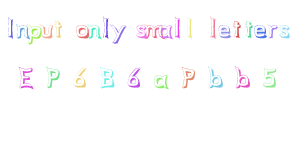5: (262, 66, 277, 88)
6: (72, 66, 88, 89), (126, 65, 142, 88)
B: (99, 66, 116, 90)
E: (17, 64, 36, 90)
I: (3, 14, 19, 40)
P: (45, 65, 61, 89), (180, 66, 196, 90)
a: (157, 22, 173, 41), (153, 72, 169, 88)
b: (205, 64, 226, 89), (233, 64, 252, 90)
e: (217, 23, 231, 39), (254, 23, 267, 40)
l: (184, 14, 195, 39), (207, 14, 217, 41), (172, 14, 182, 38), (101, 14, 110, 39)
m: (143, 23, 161, 40)
n: (87, 21, 101, 40), (15, 21, 29, 39)
o: (74, 24, 90, 40)
p: (27, 23, 43, 46)
r: (267, 23, 279, 39)
s: (278, 24, 292, 40), (134, 23, 147, 39)
t: (231, 18, 243, 38), (53, 18, 64, 38), (243, 17, 253, 38)
u: (39, 23, 54, 39)
y: (110, 23, 127, 45)
